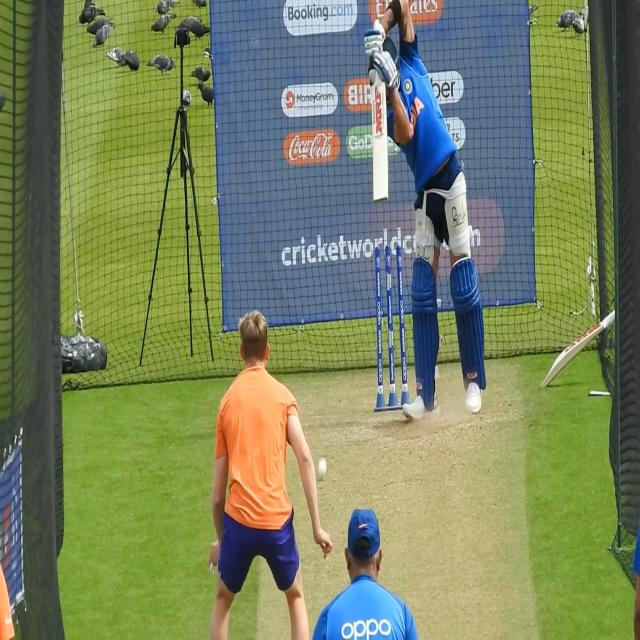ball: (315, 453, 331, 484)
stump: (373, 244, 408, 412)
